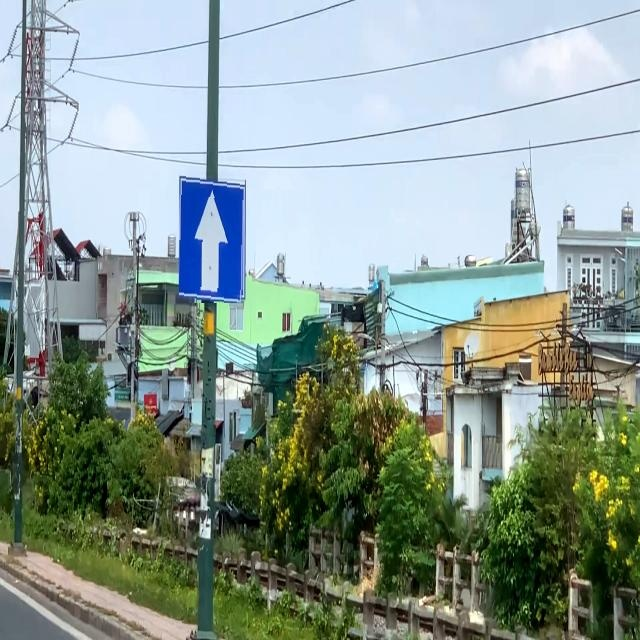bien_chi_dan: (179, 172, 245, 303)
